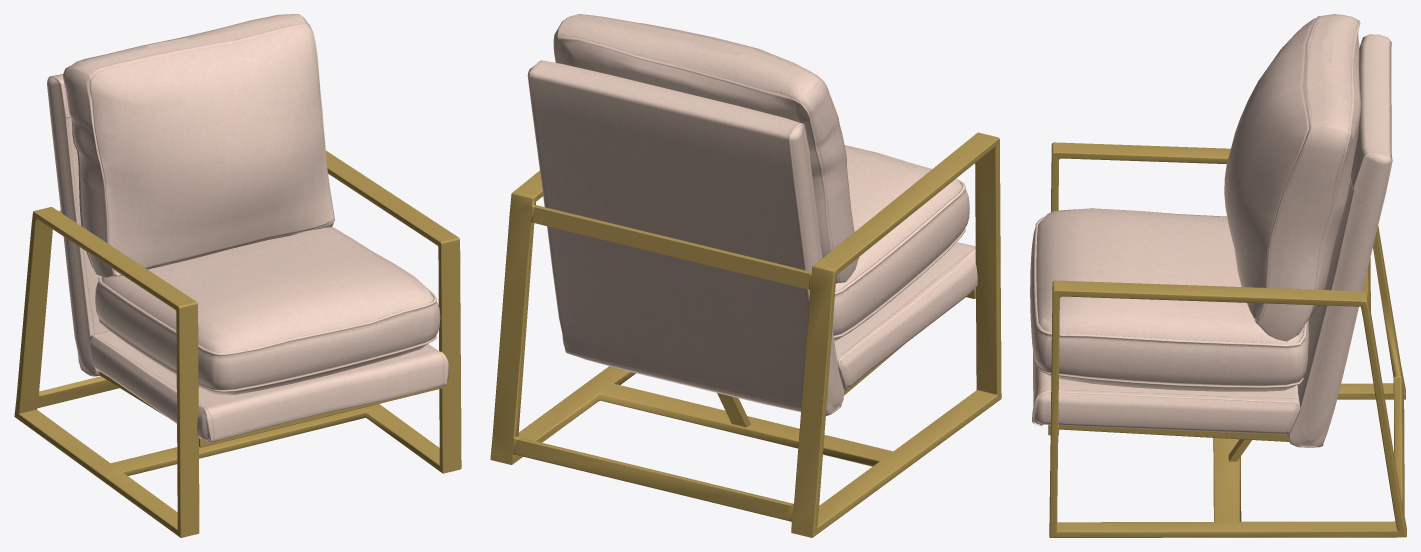
Rendered from office_chair_B0746GYJJD.glb.
3 renders of one model, left to right at view 1: azimuth 30°, elevation 25°; view 2: azimuth 150°, elevation 25°; view 3: azimuth 270°, elevation 25°, orthographic. The views are drawn at different scales.
Visible parts, largest first — view 1: RootNode; view 2: RootNode; view 3: RootNode.
Part boxes in pixels (x1,y1,x2,y2): RootNode: (14, 14, 461, 537); RootNode: (490, 14, 1001, 537); RootNode: (1030, 14, 1406, 537).
Bounding box in the file's own units: 0.7584 × 0.9557 × 0.813.
1 material, 1 textured.
